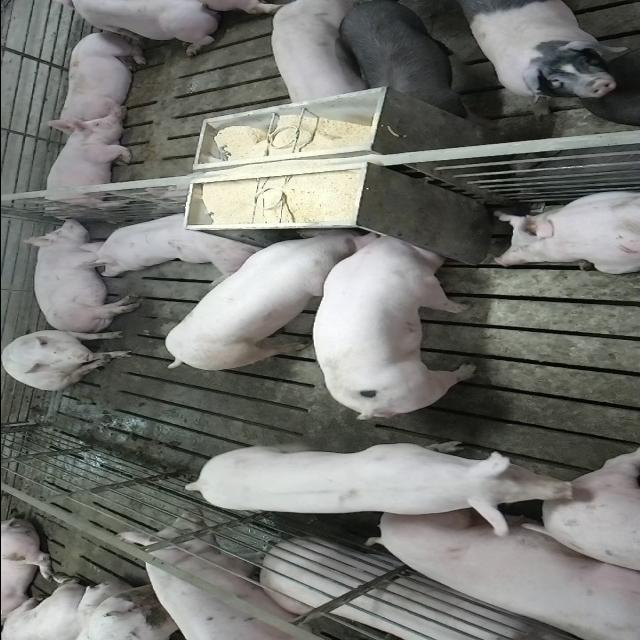Feeding: (314, 230, 482, 421), (161, 228, 367, 376)
Lateral_lying: (367, 505, 640, 640), (16, 217, 142, 333)
Sitting: (1, 328, 136, 390)
Standing: (117, 509, 343, 640), (188, 438, 534, 520), (337, 2, 499, 126), (453, 3, 625, 106), (272, 2, 370, 112)
Sternal_lying: (490, 189, 640, 274), (73, 208, 260, 276), (48, 28, 150, 130), (37, 115, 136, 215), (38, 3, 223, 56)
